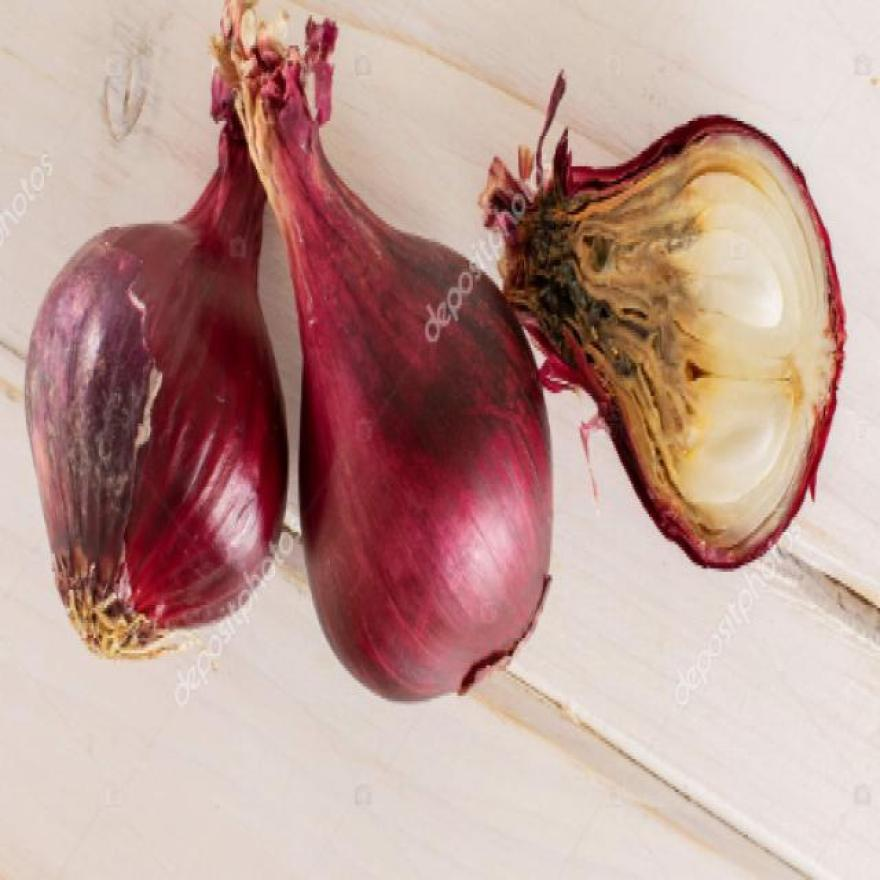Rotten: (513, 202, 665, 378), (53, 266, 138, 523)
